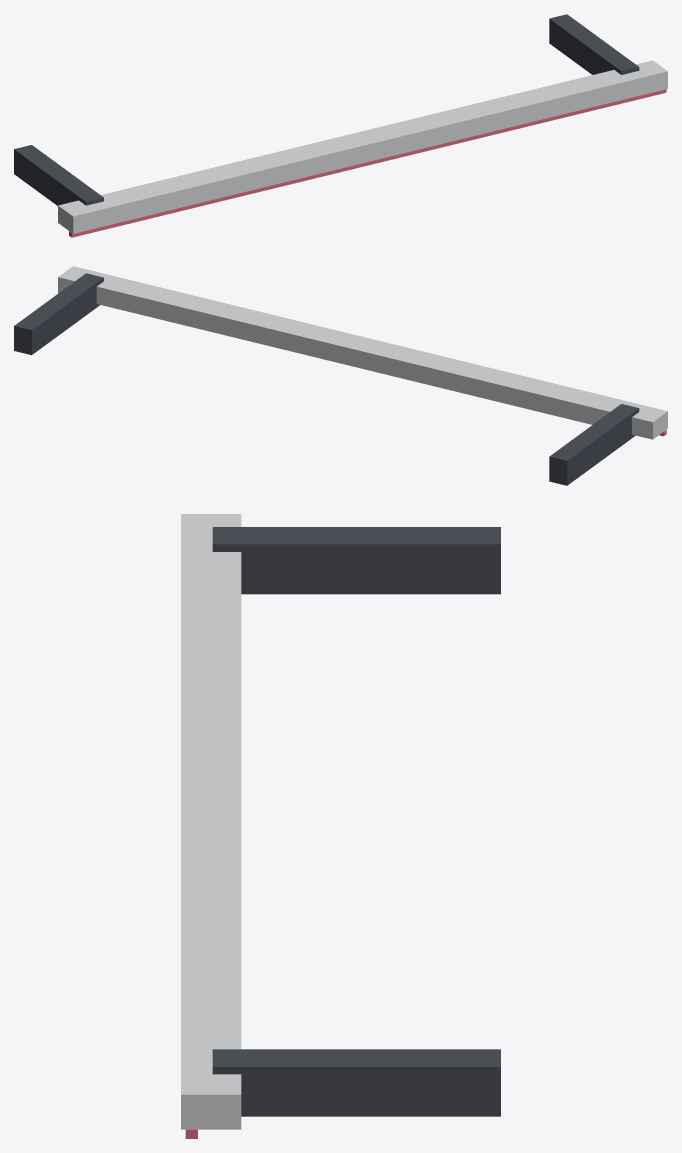
File: ice_grey_guardrail_segment.glb
3 views of the same model, one above another, from view 1: azimuth 30°, elevation 25°; view 2: azimuth 150°, elevation 25°; view 3: azimuth 270°, elevation 25° (orthographic). The views are drawn at different scales.
Parts seen in each view (by area): view 1: ice_grey_guardrail_segment_part_0, ice_grey_guardrail_segment_part_2, ice_grey_guardrail_segment_part_1, ice_grey_guardrail_segment_part_3; view 2: ice_grey_guardrail_segment_part_0, ice_grey_guardrail_segment_part_1, ice_grey_guardrail_segment_part_2; view 3: ice_grey_guardrail_segment_part_0, ice_grey_guardrail_segment_part_2, ice_grey_guardrail_segment_part_1.
Part boxes in pixels (x1,y1,x2,y2): ice_grey_guardrail_segment_part_0: (58, 60, 667, 233); ice_grey_guardrail_segment_part_2: (549, 14, 639, 74); ice_grey_guardrail_segment_part_1: (14, 145, 103, 205); ice_grey_guardrail_segment_part_3: (69, 89, 666, 237); ice_grey_guardrail_segment_part_0: (58, 266, 667, 439); ice_grey_guardrail_segment_part_1: (549, 404, 639, 485); ice_grey_guardrail_segment_part_2: (14, 273, 103, 355); ice_grey_guardrail_segment_part_0: (181, 514, 241, 1129); ice_grey_guardrail_segment_part_2: (212, 1049, 500, 1116); ice_grey_guardrail_segment_part_1: (212, 527, 500, 594).
Bounding box in the file's own units: 5 × 0.2075 × 1.16.
